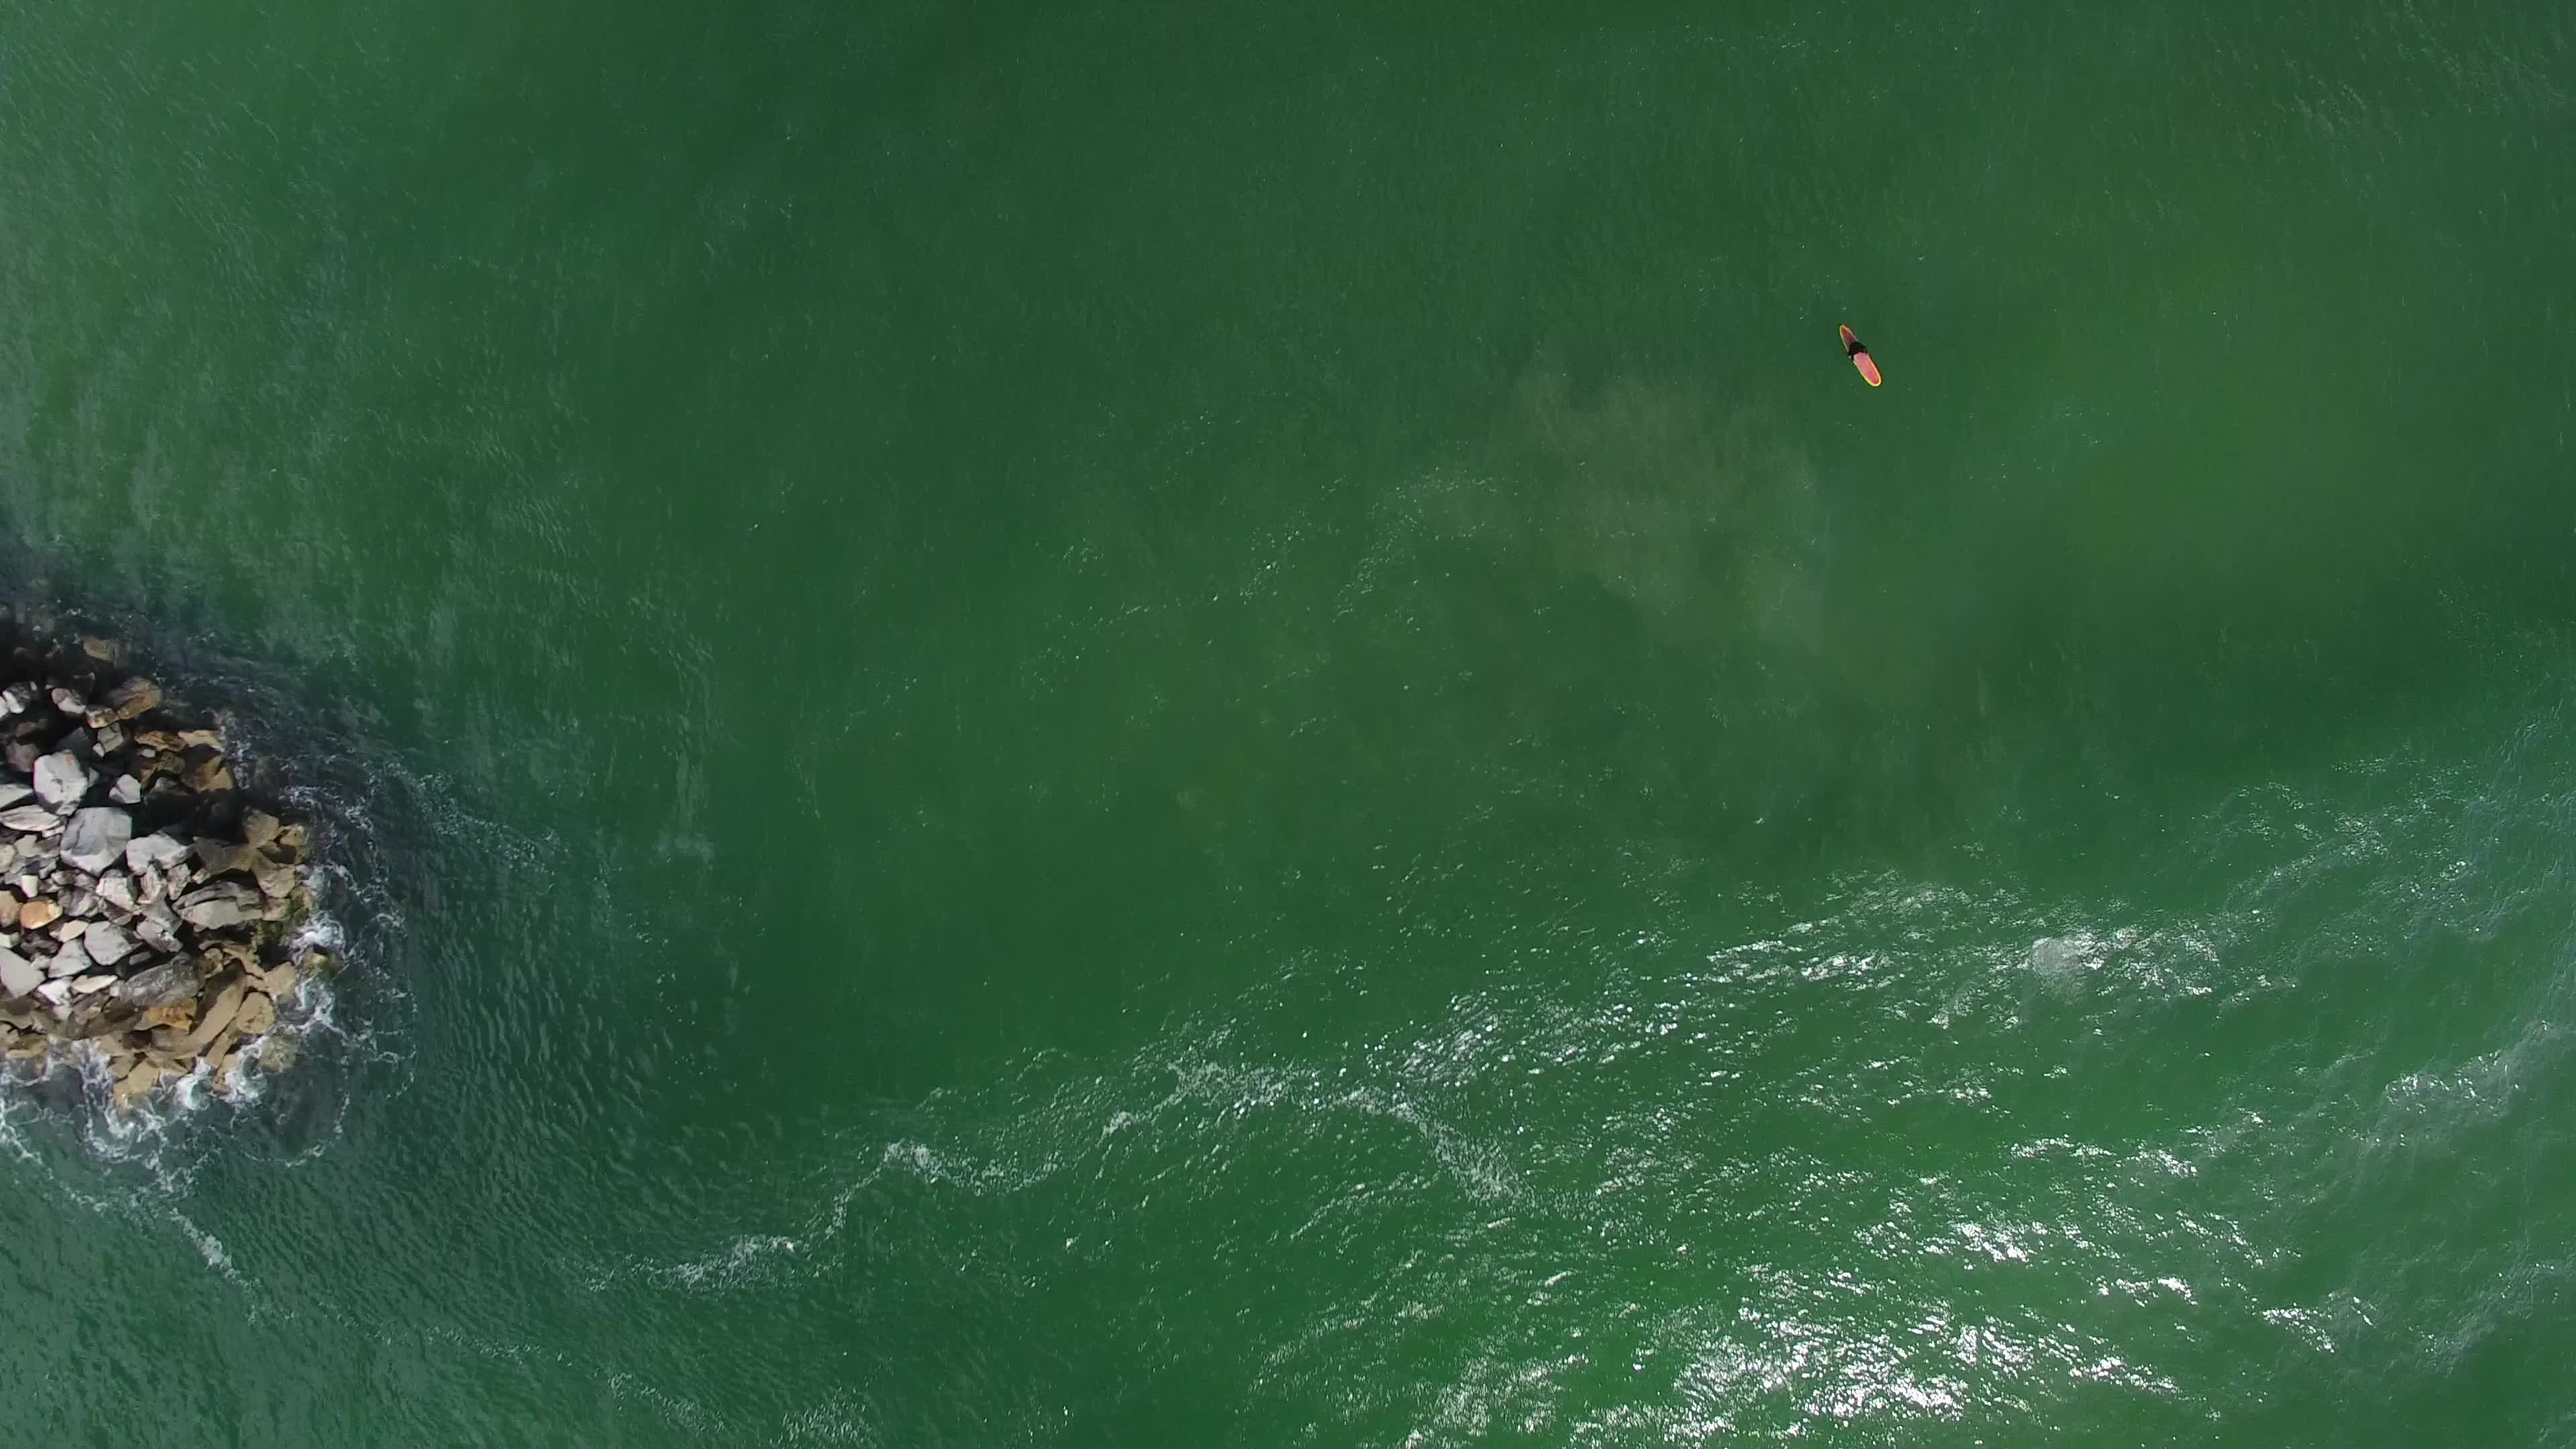surfer: (1829, 317, 1890, 398)
